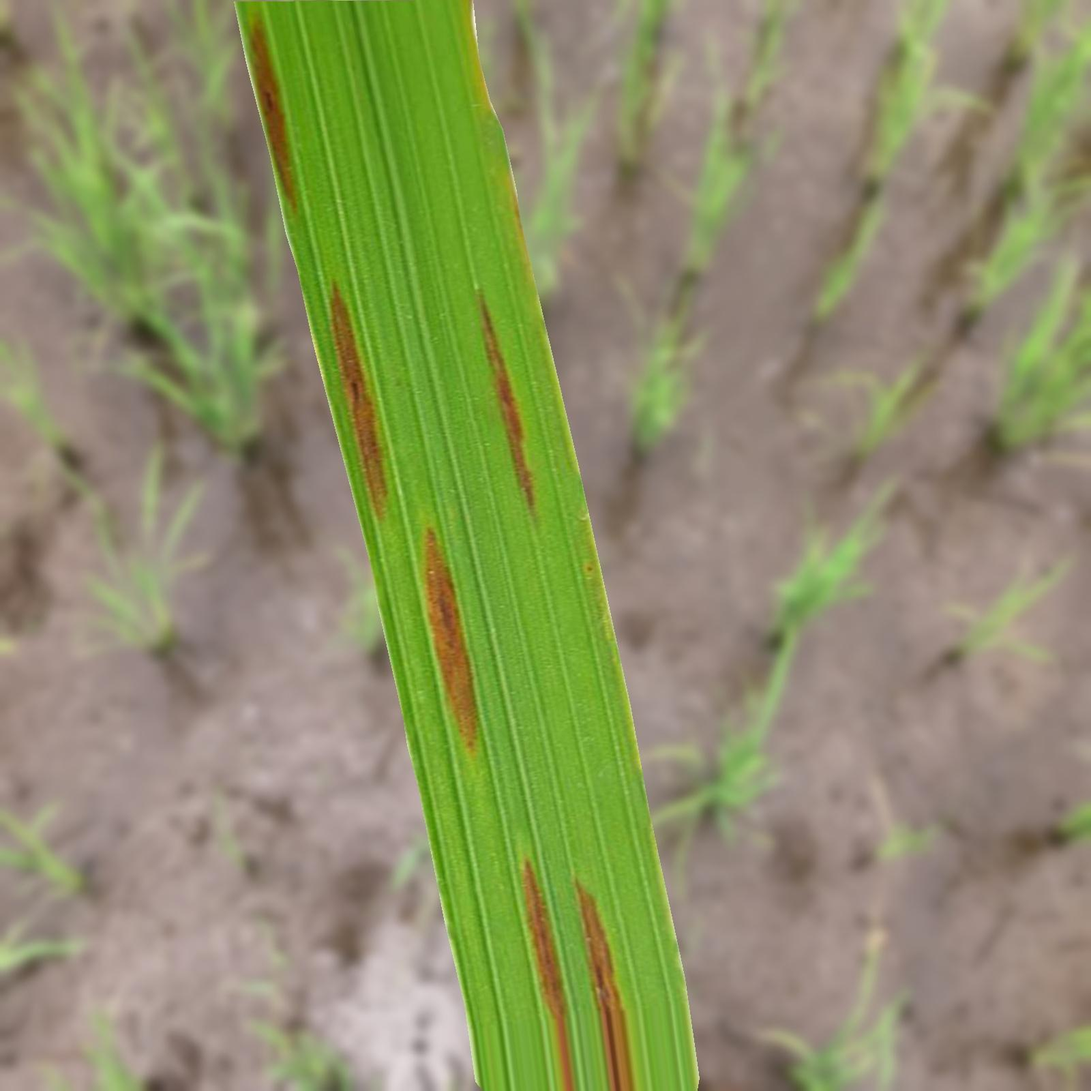LEAF: (234, 0, 699, 1090)
NBS: (330, 283, 388, 517), (577, 882, 636, 1090), (522, 860, 575, 1090), (479, 297, 535, 513), (425, 528, 477, 755), (250, 18, 295, 209)
